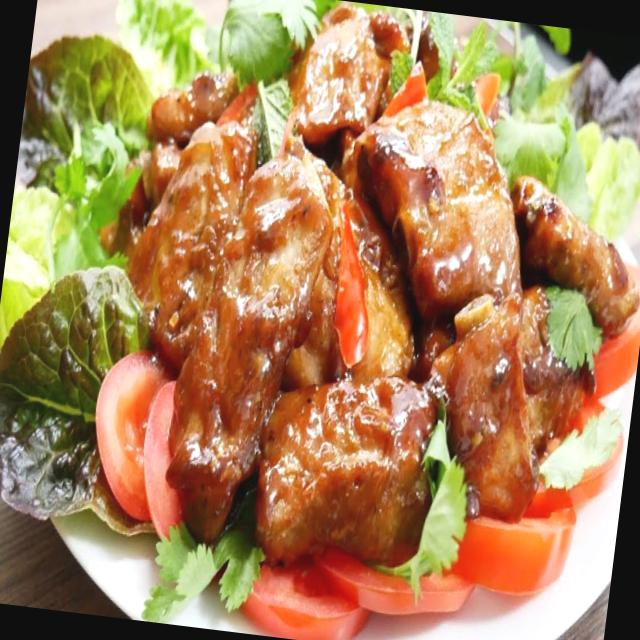suon xao: (128, 10, 636, 564)
